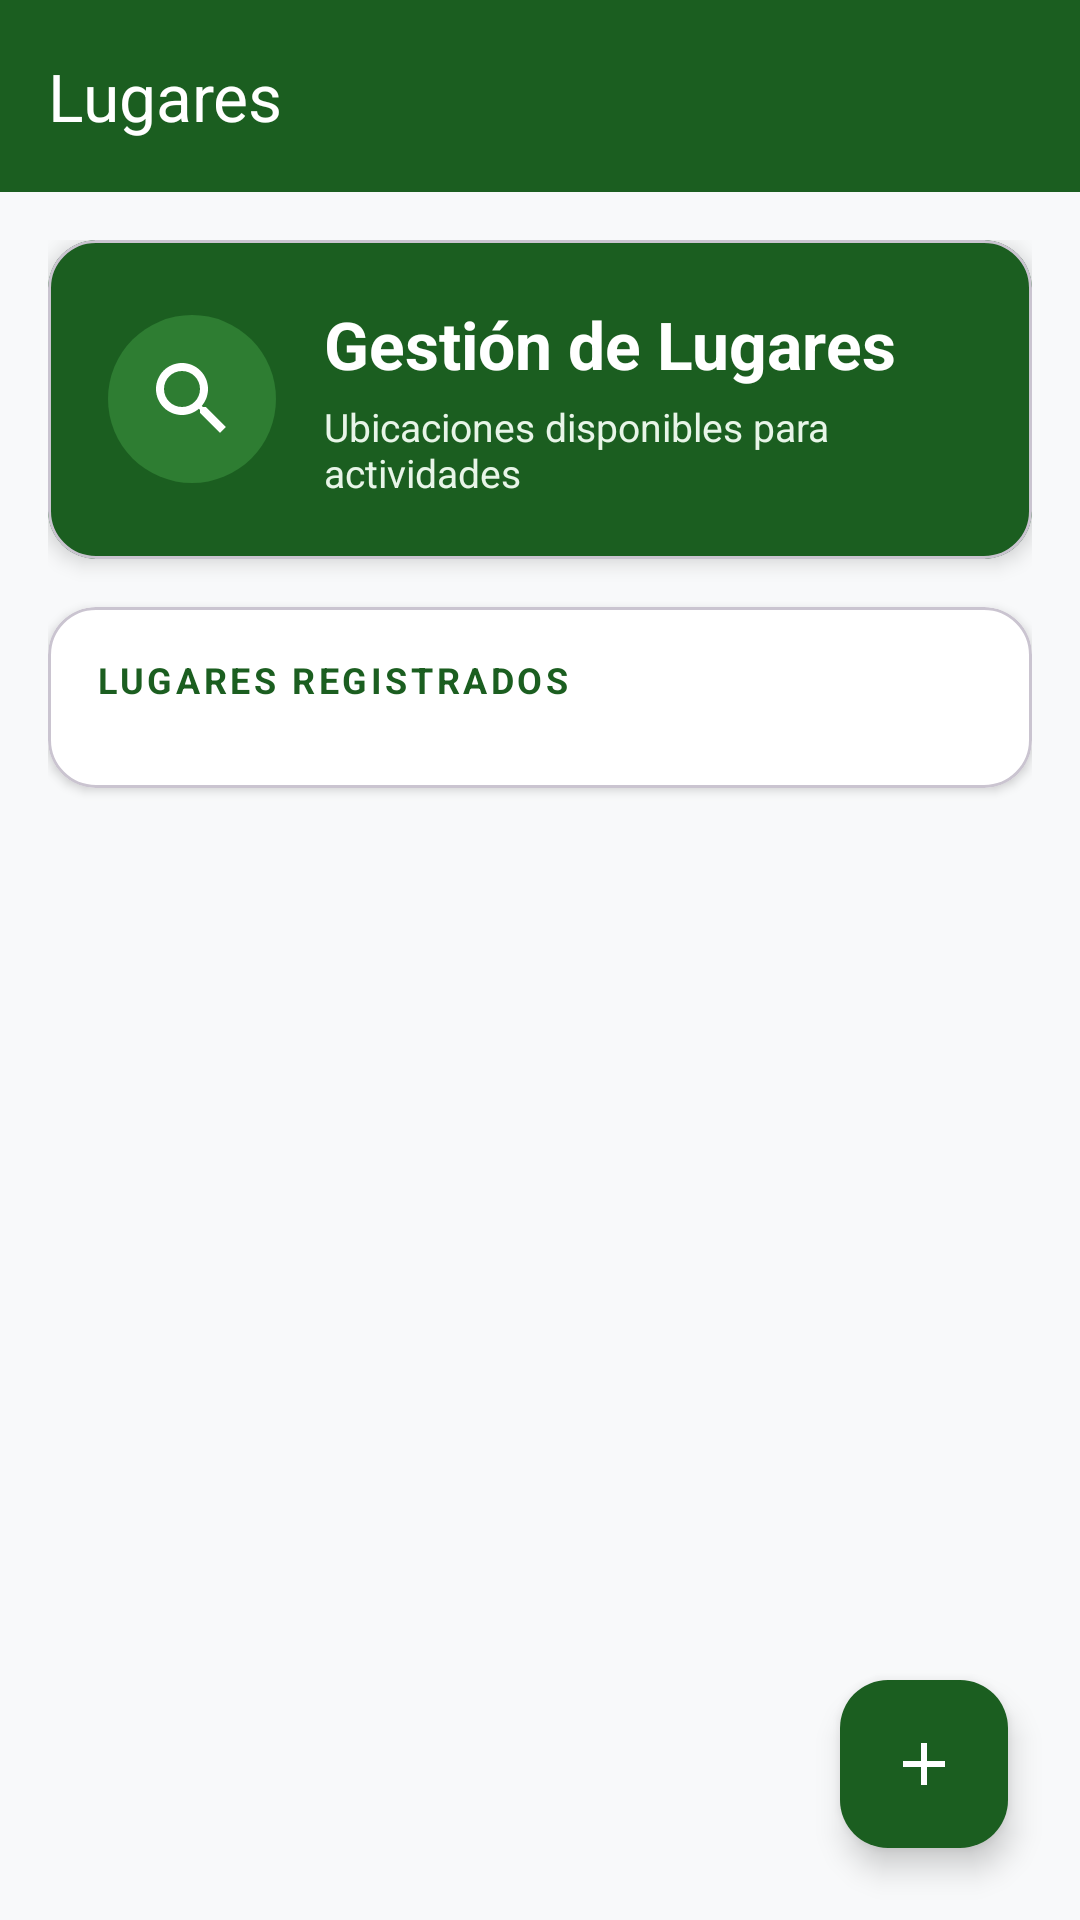

Point at icon controls on the screen. Image size 1080 x 1920, points as [x,y].
Agregar lugar: [924,1764]
search: [191,398]
